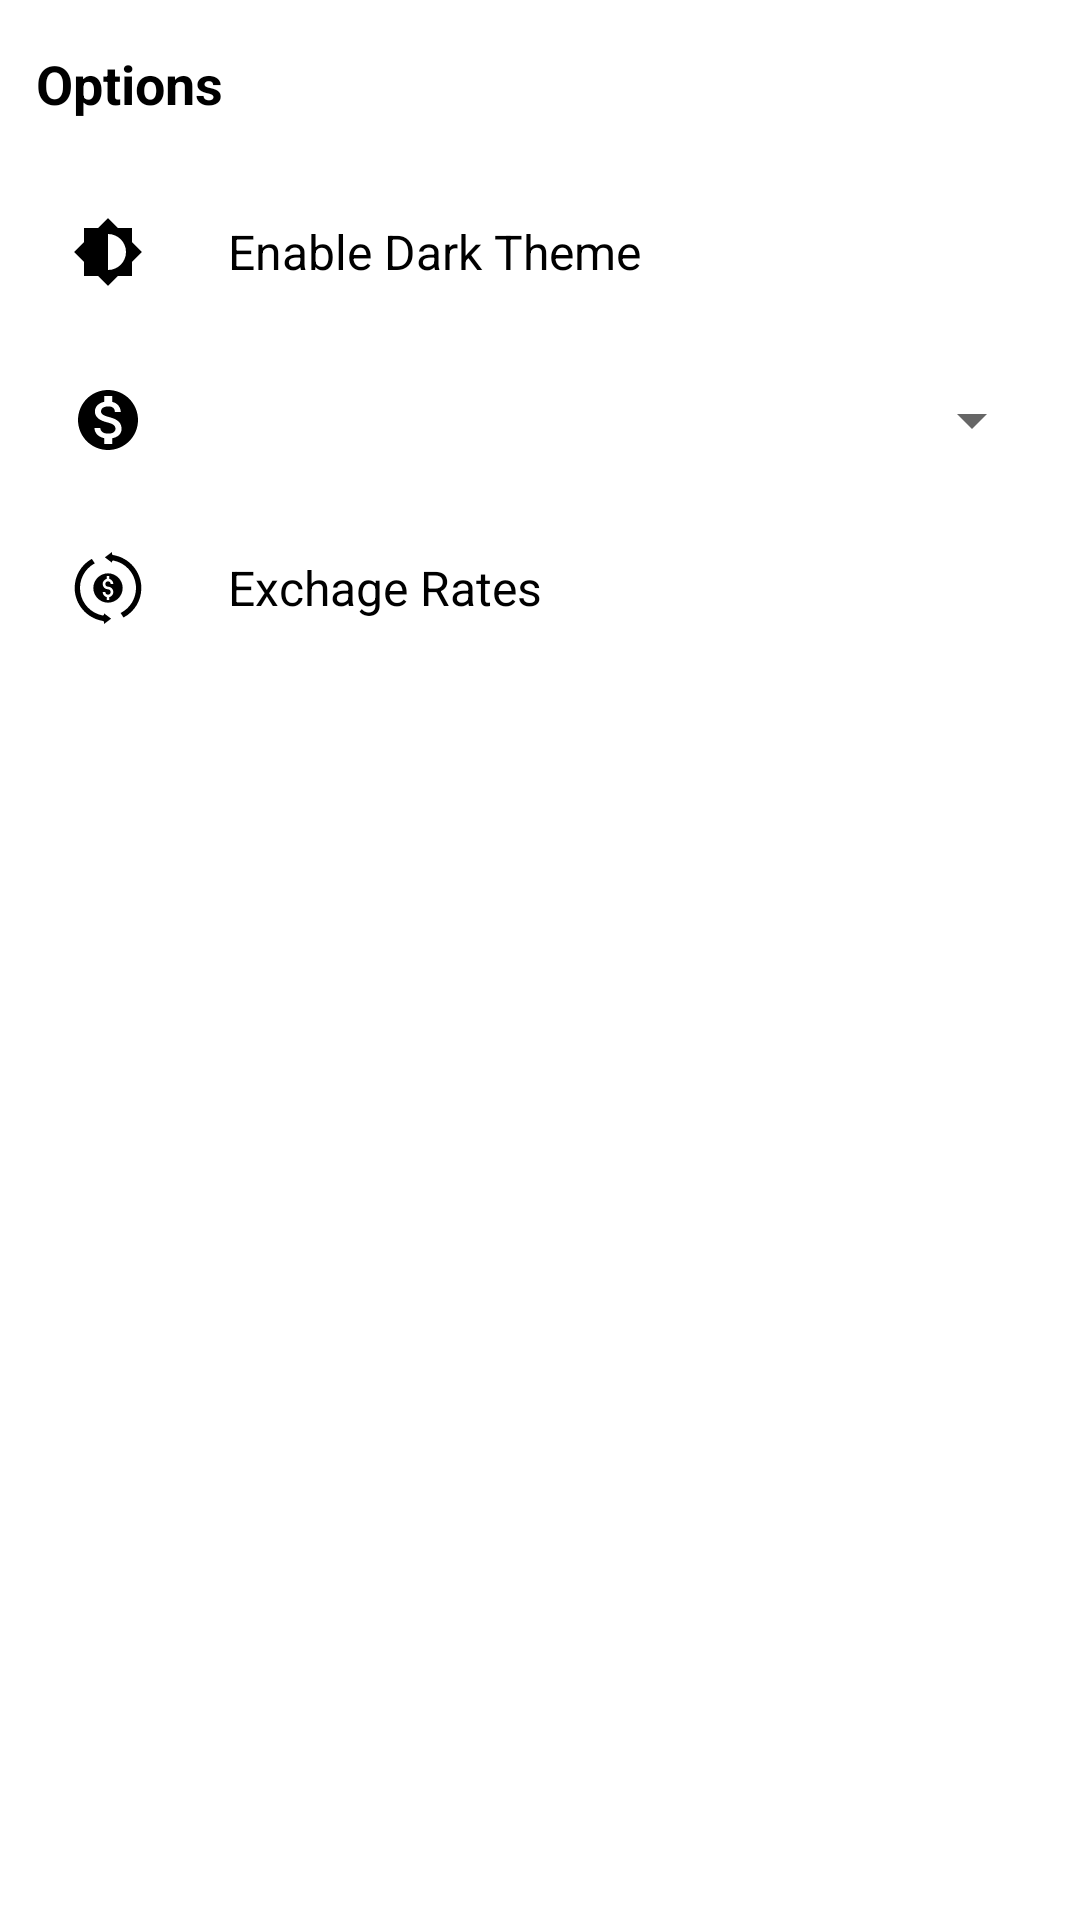

Icons on this 1080px x 1920px Android screen, each with the point to tap as (x,y):
brightness: (108,252)
exchange: (108,588)
monetization on: (108,420)
